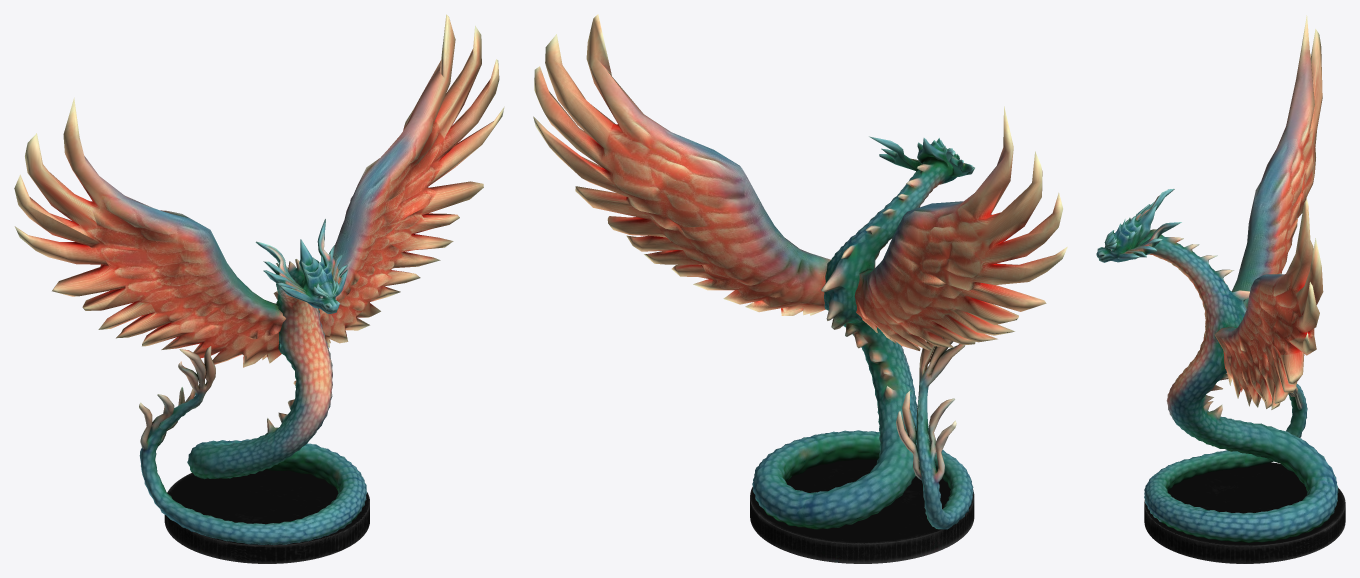
Rendered from MZ4250 - Couatl.glb.
3 views of the same model, side by side, from view 1: azimuth 30°, elevation 25°; view 2: azimuth 150°, elevation 25°; view 3: azimuth 270°, elevation 25° (orthographic). The views are drawn at different scales.
Visible parts, largest first — view 1: wing_left_low.001; view 2: wing_left_low.001; view 3: wing_left_low.001.
Boxes of the visible parts, x1,y1,x2,y2 form: wing_left_low.001: (14,14,504,563); wing_left_low.001: (533,14,1067,563); wing_left_low.001: (1096,15,1345,563).
Size of the model in its own units: 2.56 by 2.19 by 1.15.
1 material, 1 textured.
